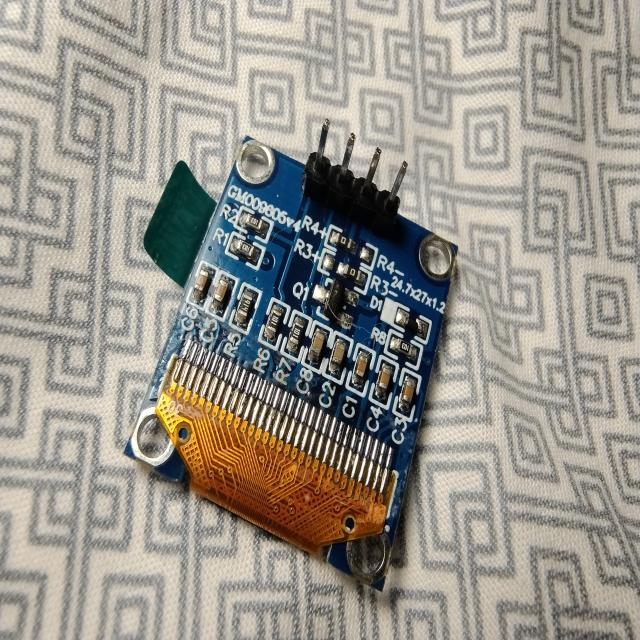oled: (122, 115, 466, 610)
